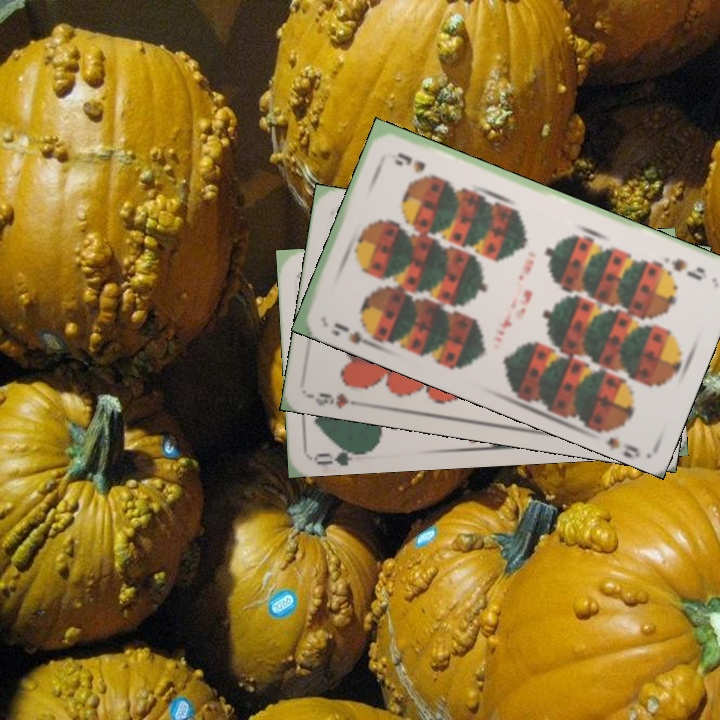GO: (312, 440, 371, 468)
H9: (311, 388, 366, 411)
S9: (328, 318, 379, 350), (667, 254, 708, 283)
